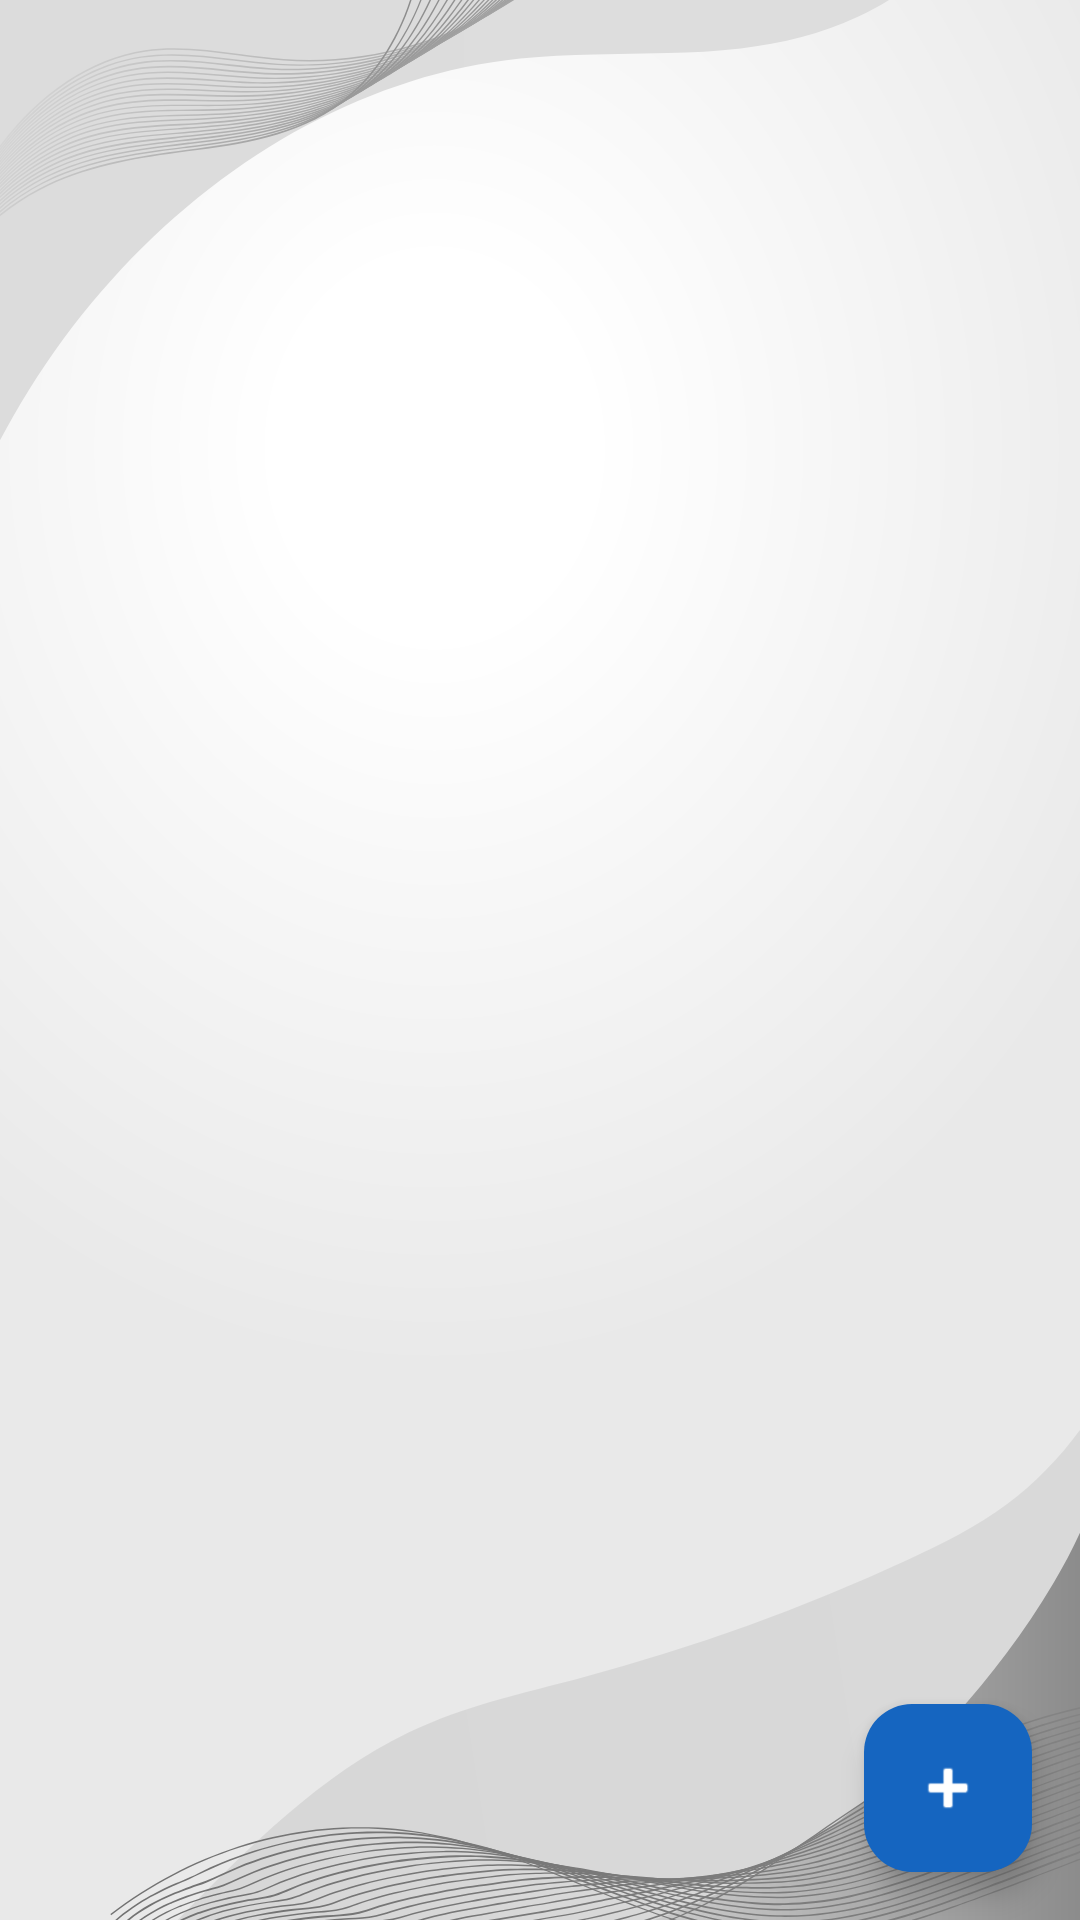

Icon click points for this 1080×1920 phone screenshot, format point (x, y):
Добавить продукт: point (948, 1788)
